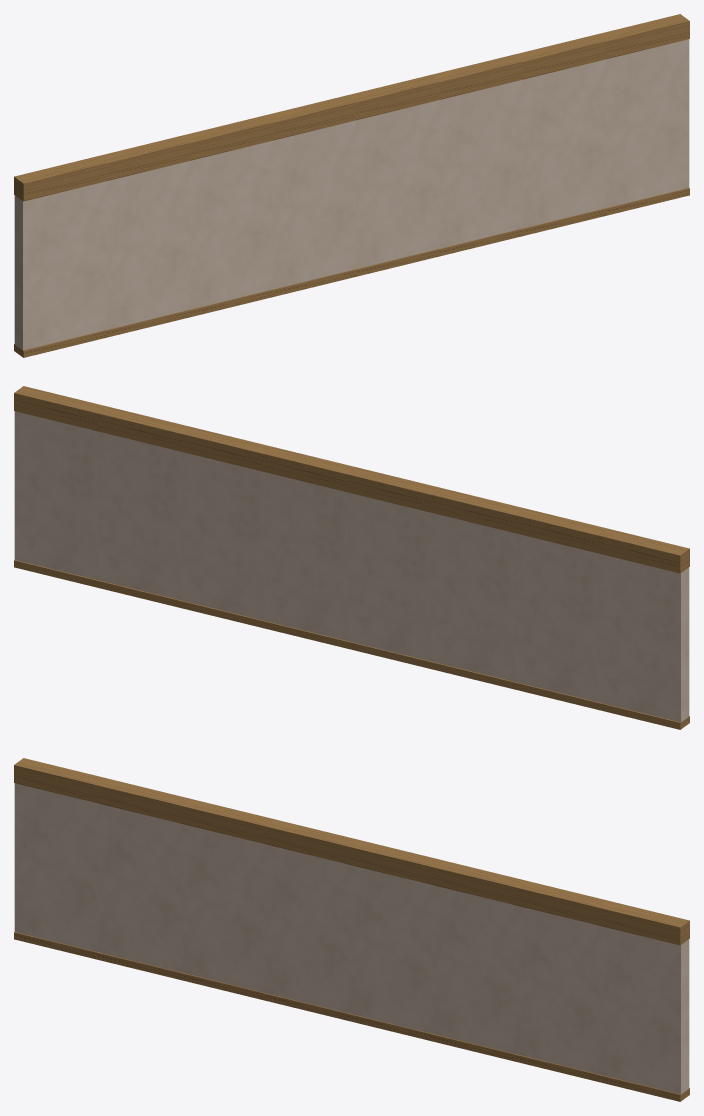
File: wall_8.fbx
3 views of the same model, one above another, from view 1: azimuth 30°, elevation 25°; view 2: azimuth 150°, elevation 25°; view 3: azimuth 330°, elevation 25° (orthographic).
Visible parts, largest first — view 1: Cube.242; view 2: Cube.242; view 3: Cube.242.
Boxes of the visible parts, x1,y1,x2,y2 form: Cube.242: [14, 14, 689, 357]; Cube.242: [14, 386, 689, 729]; Cube.242: [14, 758, 689, 1101].
Size of the model in its own units: 800 by 200 by 20.
